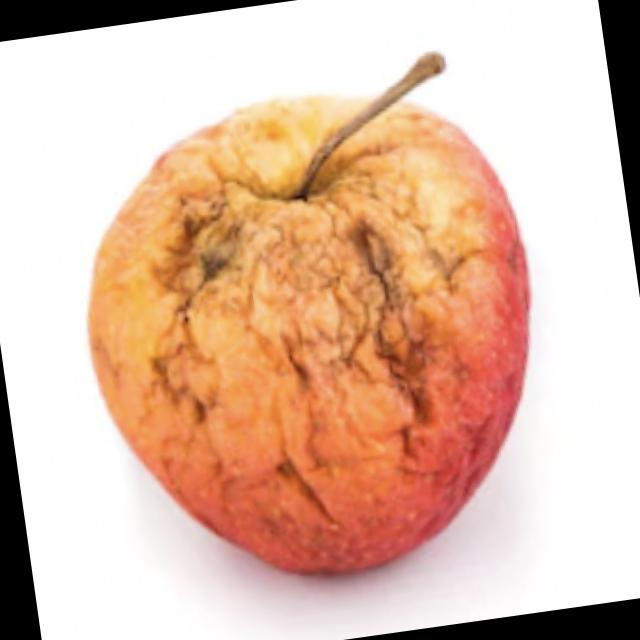rotten_apple: (59, 41, 571, 601)
